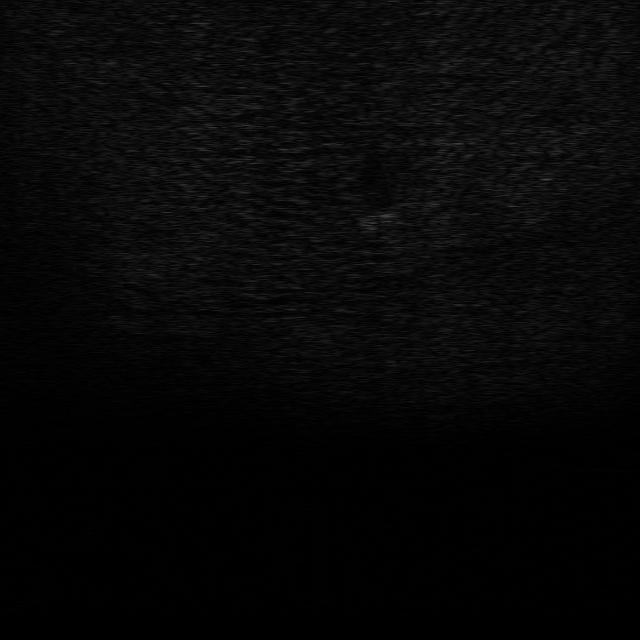plane: (350, 198, 419, 233)
